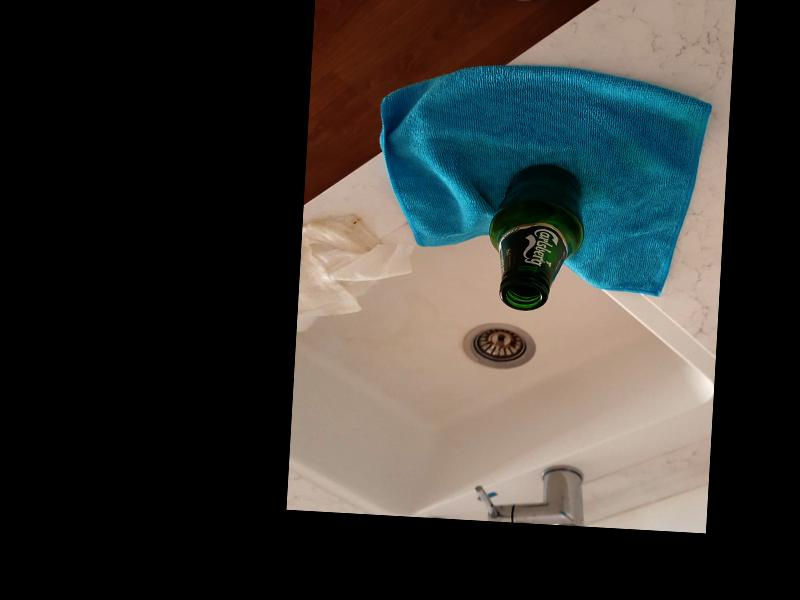Beer: (484, 160, 583, 311)
